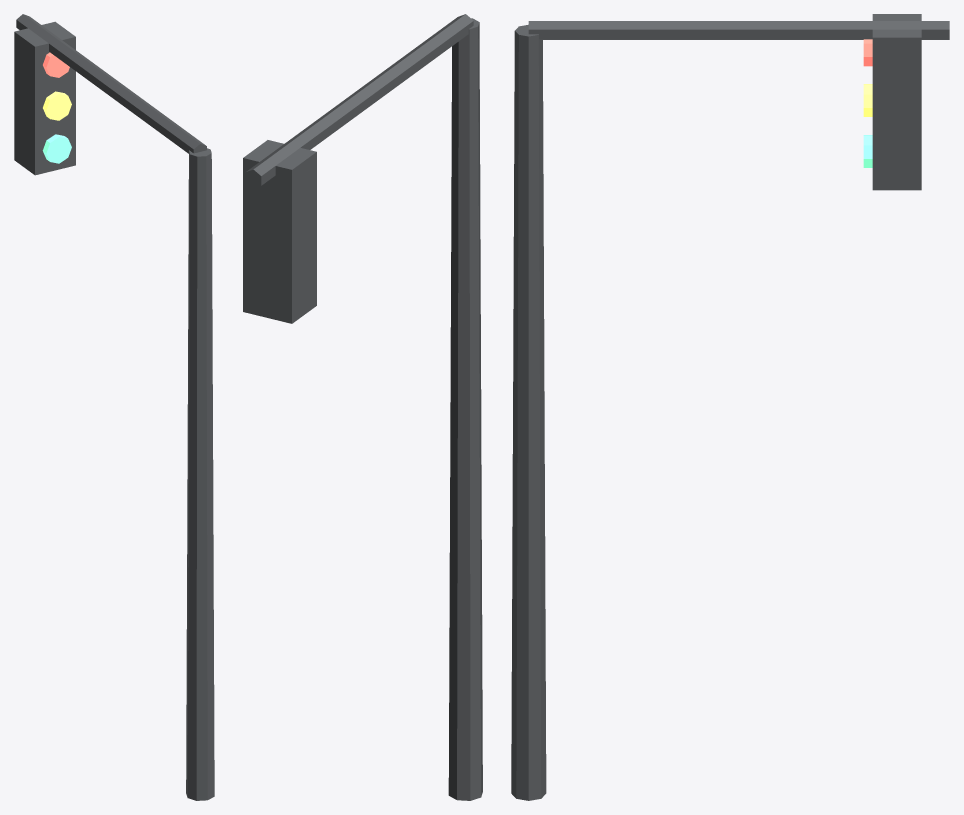
Rendered from TrafficLight.glb.
3 views of the same model, side by side, from view 1: azimuth 30°, elevation 25°; view 2: azimuth 150°, elevation 25°; view 3: azimuth 270°, elevation 25° (orthographic). The views are drawn at different scales.
Visible parts, largest first — view 1: Pole, Lamp_Y, Lamp_G, Lamp_R; view 2: Pole; view 3: Pole.
Part boxes in pixels (x1,y1,x2,y2): Pole: (14,14,214,800); Lamp_Y: (43,91,71,120); Lamp_G: (42,134,71,163); Lamp_R: (43,52,69,77); Pole: (243,14,482,800); Pole: (511,14,949,800).
Bounding box in the file's own units: 0.32 × 4.86 × 2.5.
